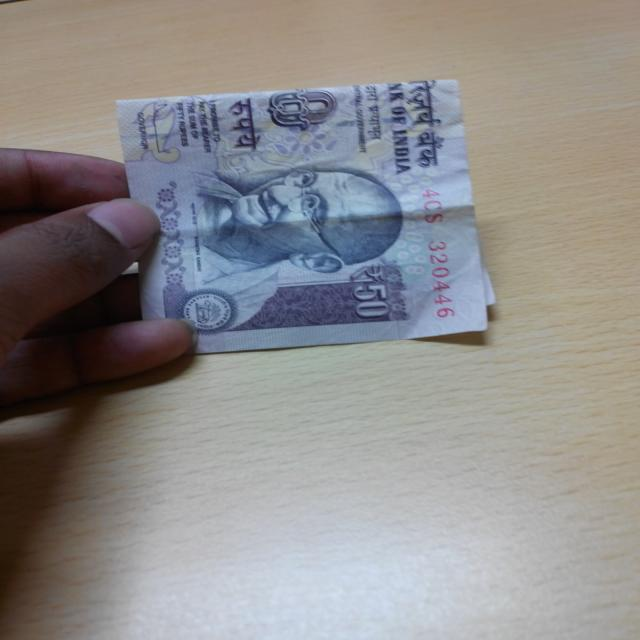50rs: (114, 79, 501, 346)
